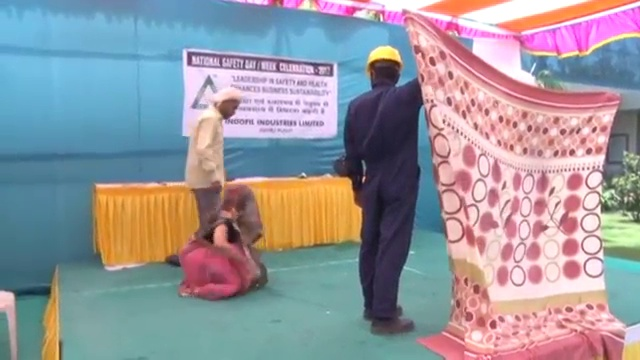helmet: (366, 45, 403, 74)
helmet_off: (213, 89, 242, 122), (224, 178, 250, 209)
helmet_on: (365, 45, 403, 90)
person: (341, 44, 425, 338), (176, 178, 268, 302), (184, 89, 243, 226)
